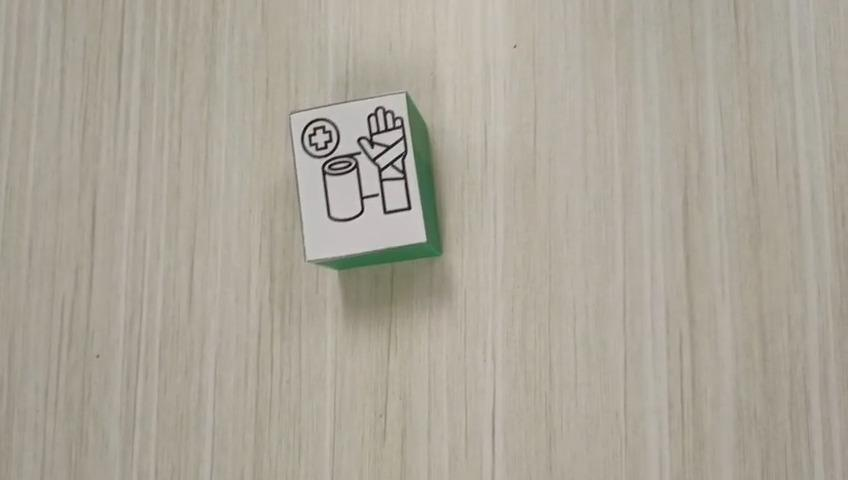Bandages: (288, 89, 442, 269)
